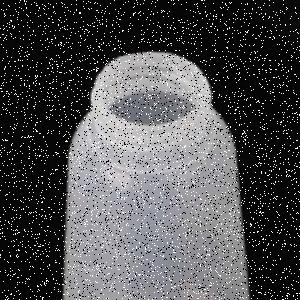Plastic-bottle: (57, 50, 255, 300)
